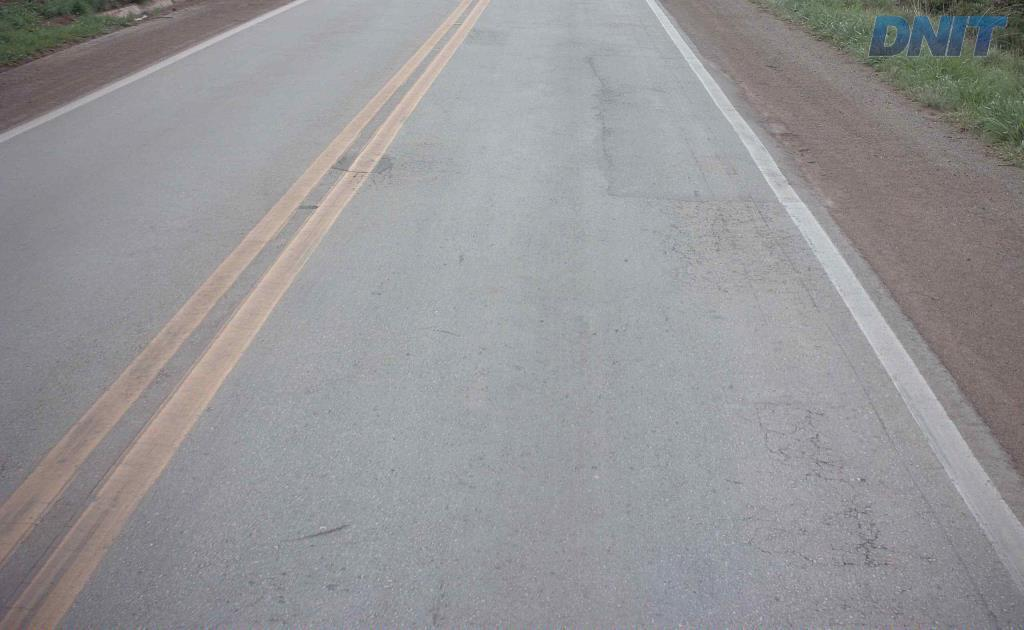crack: (854, 529, 894, 567)
